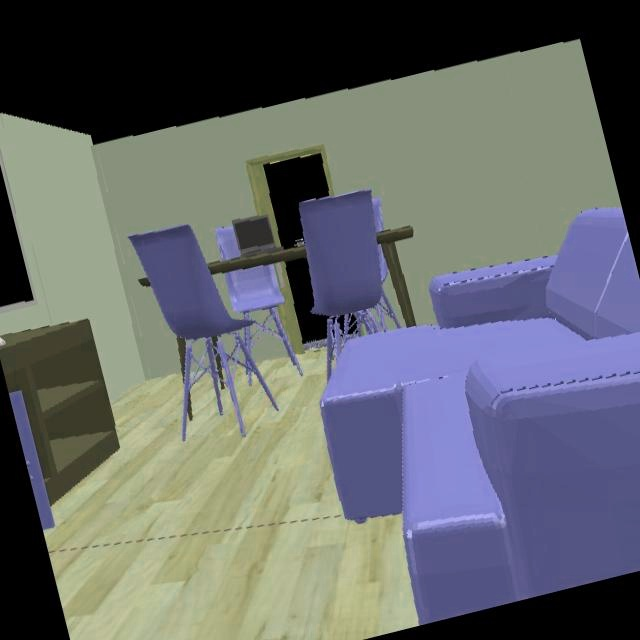cabinet: (0, 320, 120, 530)
chair: (129, 224, 305, 442), (299, 188, 400, 380), (215, 226, 242, 262)
laptop: (232, 215, 284, 258)
monitor: (0, 149, 38, 314)
sofa: (319, 207, 640, 625)
table: (377, 227, 415, 327), (208, 238, 306, 275), (208, 337, 235, 402), (177, 338, 192, 440), (138, 277, 150, 285)
